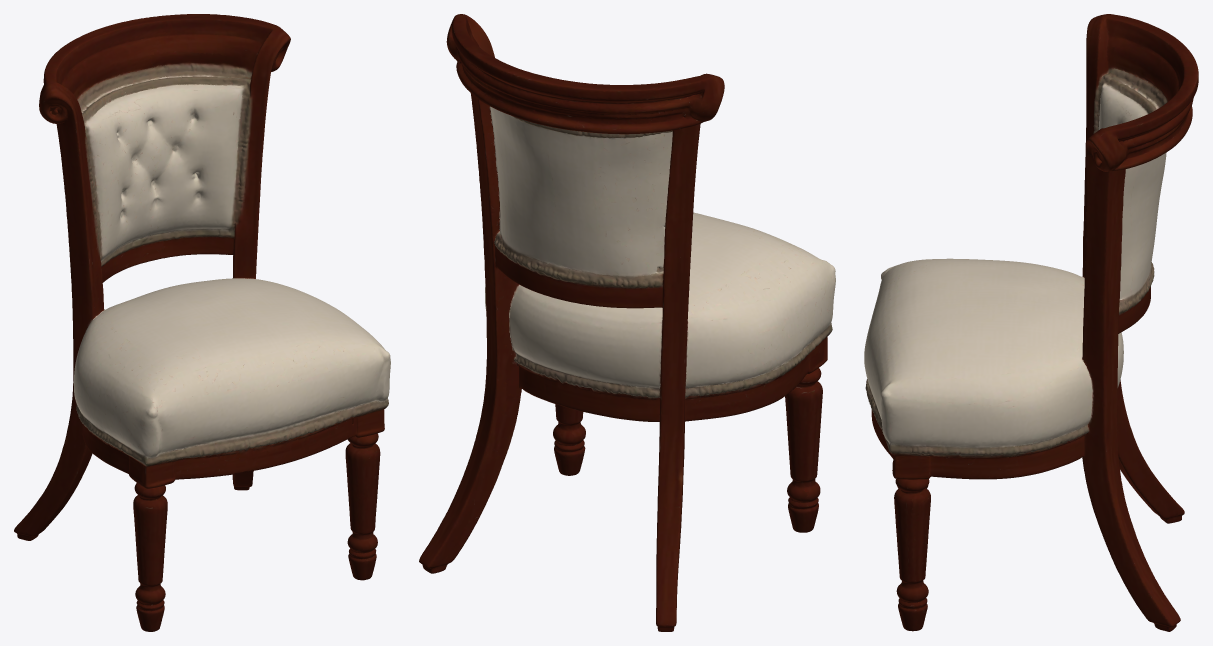
The model's file is smoke_l40s.glb.
The picture shows the model from 3 angles, left to right: view 1: azimuth 30°, elevation 25°; view 2: azimuth 150°, elevation 25°; view 3: azimuth 270°, elevation 25°; orthographic projection. The views are drawn at different scales.
Parts seen in each view (by area): view 1: world; view 2: world; view 3: world.
Boxes of the visible parts, <box> form: world: <box>14,14,390,631</box>; world: <box>419,14,835,631</box>; world: <box>864,14,1198,631</box>.
Size of the model in its own units: 0.5719 by 1 by 0.6068.
Materials: 1 (1 with a texture image).
